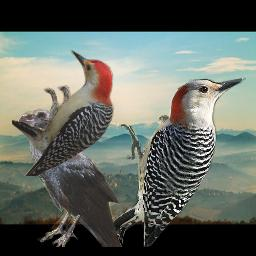Crow: (16, 108, 122, 247)
Woodpecker: (111, 77, 246, 247), (12, 49, 118, 176)
